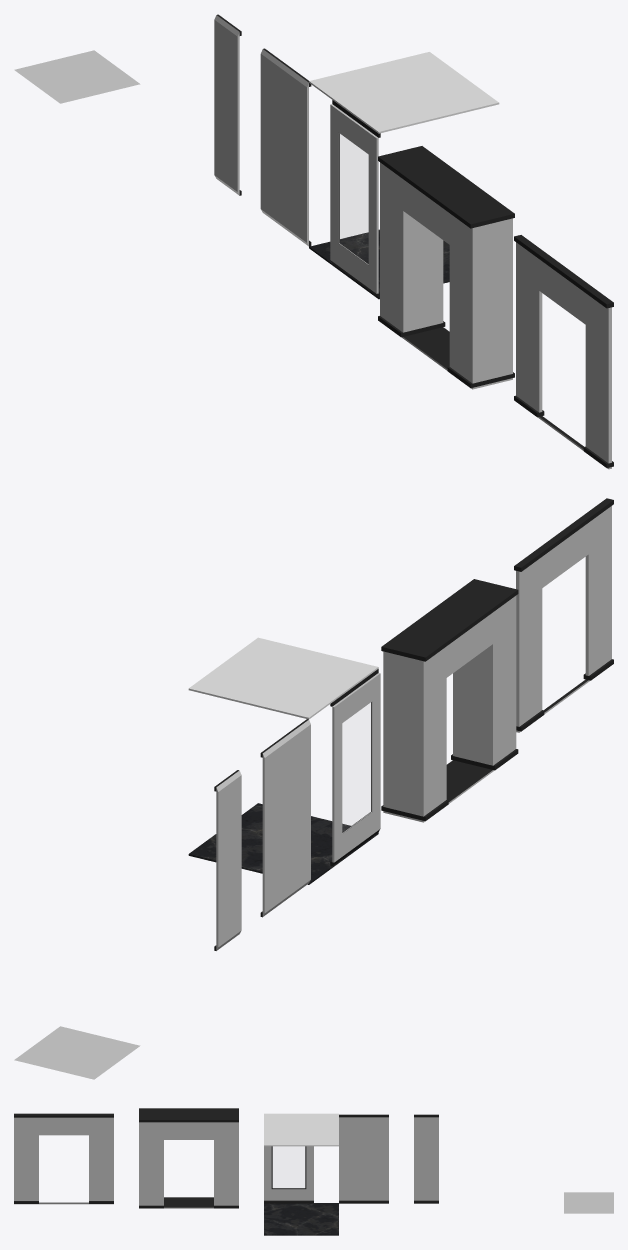
The model's file is OfficeModular.fbx.
The picture shows the model from 3 angles, top to bottom: view 1: azimuth 30°, elevation 25°; view 2: azimuth 150°, elevation 25°; view 3: azimuth 270°, elevation 25°; orthographic projection. The views are drawn at different scales.
Visible parts, largest first — view 1: Paasage Thick, Passage, Ceiling 3x3, wall 2x3, windowWall_A 2x3.001, wall 1x3, Plane, Floor 3x3; view 2: Paasage Thick, Passage, Ceiling 3x3, wall 2x3, windowWall_A 2x3.001, wall 1x3, Plane, Floor 3x3; view 3: Paasage Thick, Passage, wall 2x3, windowWall_A 2x3.001, Ceiling 3x3, Floor 3x3, wall 1x3, Plane.
Part boxes in pixels (left/top/right/bottom): Paasage Thick: left=378, top=146, right=514, bottom=389; Passage: left=514, top=235, right=613, bottom=469; Ceiling 3x3: left=309, top=52, right=499, bottom=133; wall 2x3: left=260, top=48, right=311, bottom=246; windowWall_A 2x3.001: left=330, top=100, right=380, bottom=297; wall 1x3: left=214, top=14, right=241, bottom=195; Plane: left=14, top=50, right=140, bottom=103; Floor 3x3: left=309, top=229, right=449, bottom=299; Paasage Thick: left=381, top=579, right=518, bottom=822; Passage: left=514, top=498, right=613, bottom=732; Ceiling 3x3: left=188, top=637, right=378, bottom=719; wall 2x3: left=260, top=719, right=310, bottom=917; windowWall_A 2x3.001: left=330, top=669, right=380, bottom=866; wall 1x3: left=214, top=770, right=241, bottom=950; Plane: left=14, top=1026, right=140, bottom=1079; Floor 3x3: left=188, top=803, right=378, bottom=884; Paasage Thick: left=139, top=1108, right=238, bottom=1208; Passage: left=14, top=1113, right=113, bottom=1204; wall 2x3: left=339, top=1114, right=388, bottom=1203; windowWall_A 2x3.001: left=264, top=1146, right=313, bottom=1203; Ceiling 3x3: left=264, top=1113, right=338, bottom=1146; Floor 3x3: left=264, top=1203, right=338, bottom=1235; wall 1x3: left=414, top=1114, right=438, bottom=1203; Plane: left=564, top=1192, right=613, bottom=1213.
Size of the model in its own units: 398 by 400 by 2400.
